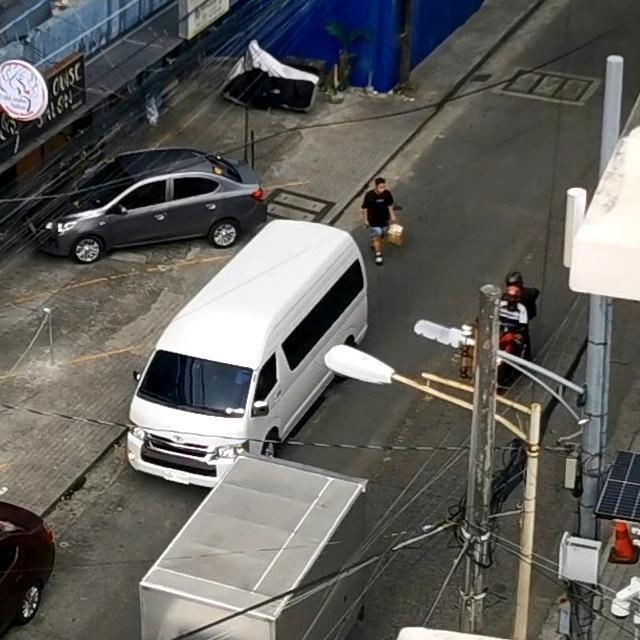Motorcycle: (472, 270, 542, 383)
